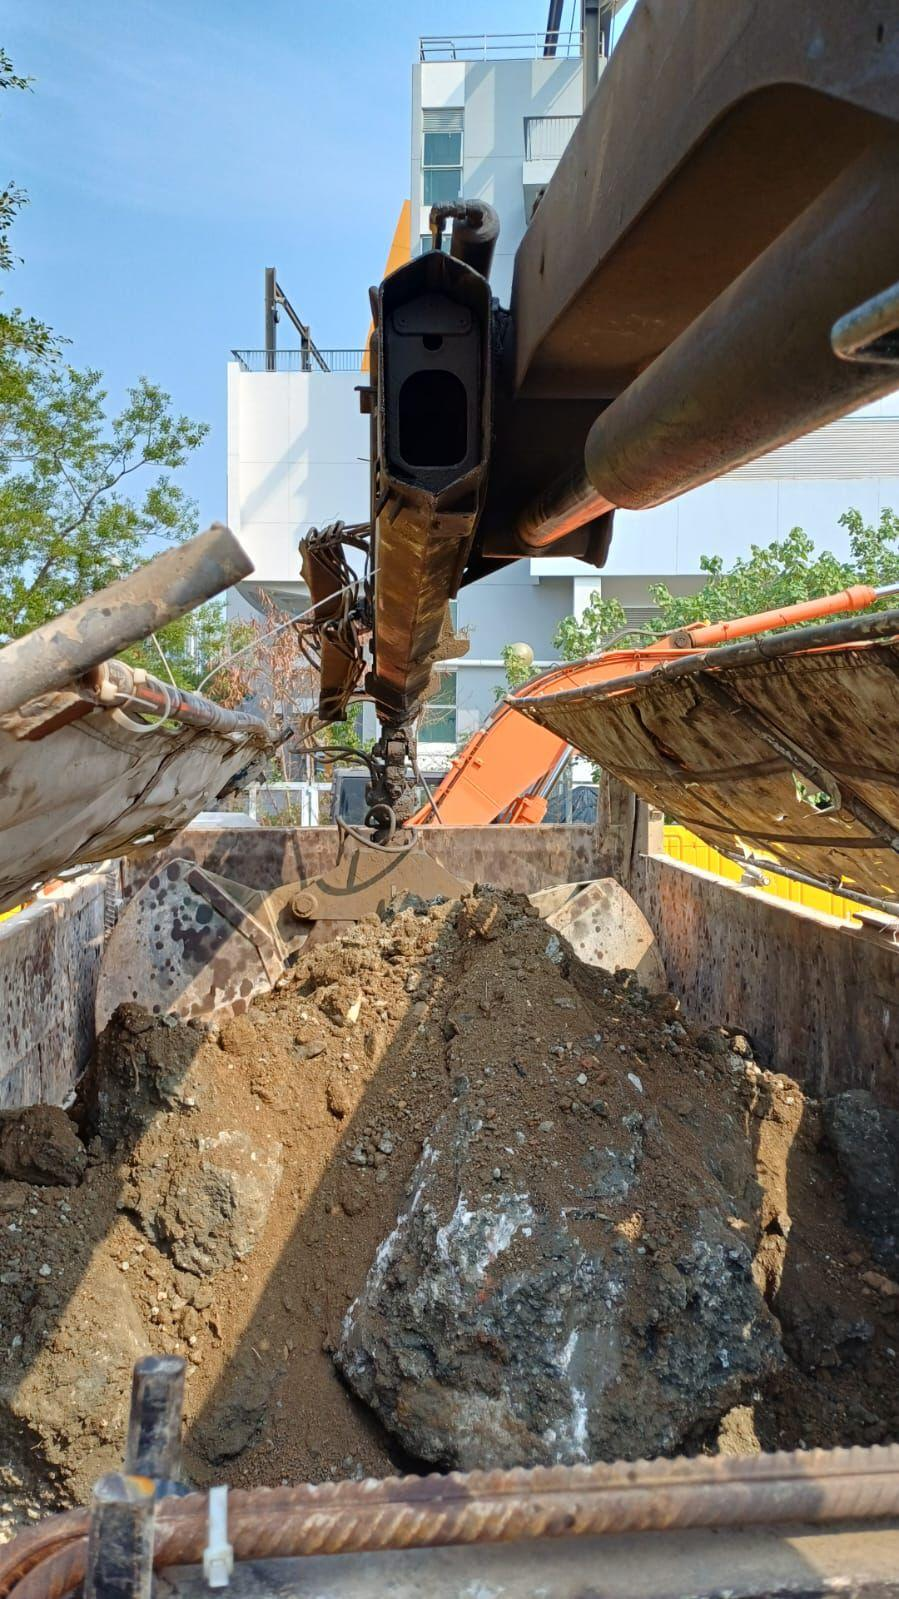dry: (30, 880, 890, 1500)
